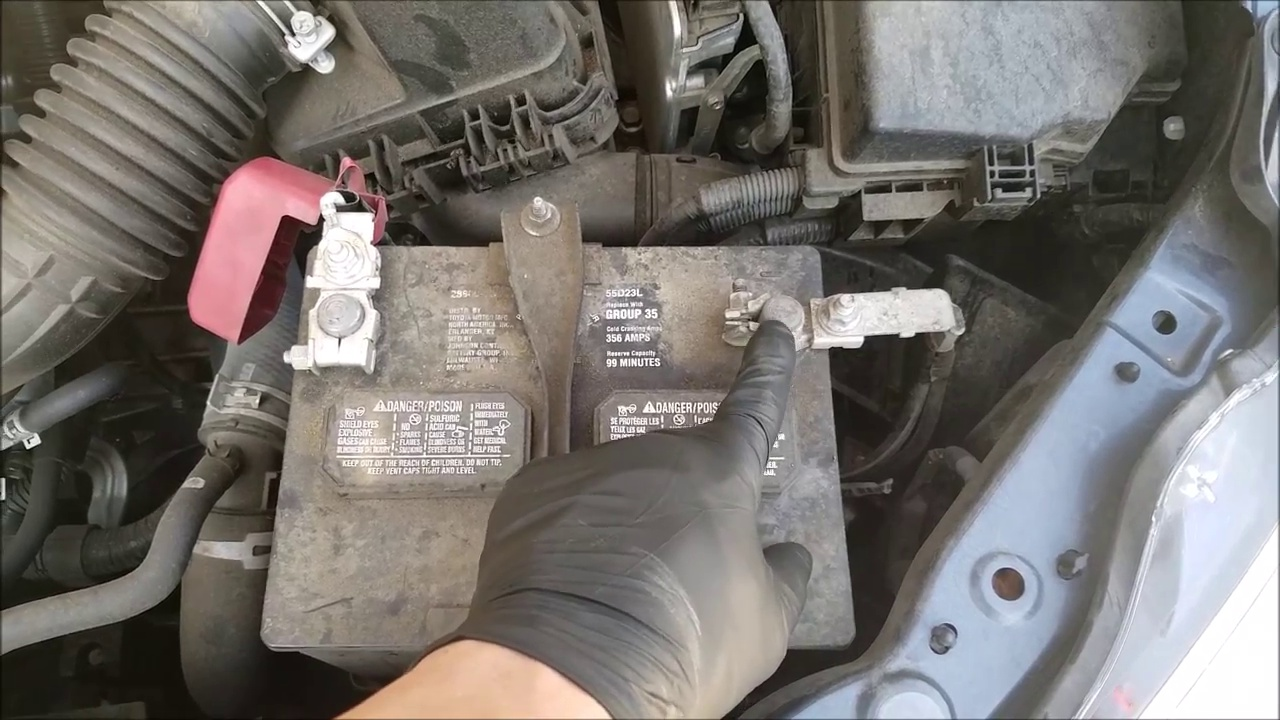battery: (288, 219, 855, 647)
neg_touched: (701, 261, 844, 561), (695, 255, 944, 354)
pos_touched: (201, 164, 401, 374)
